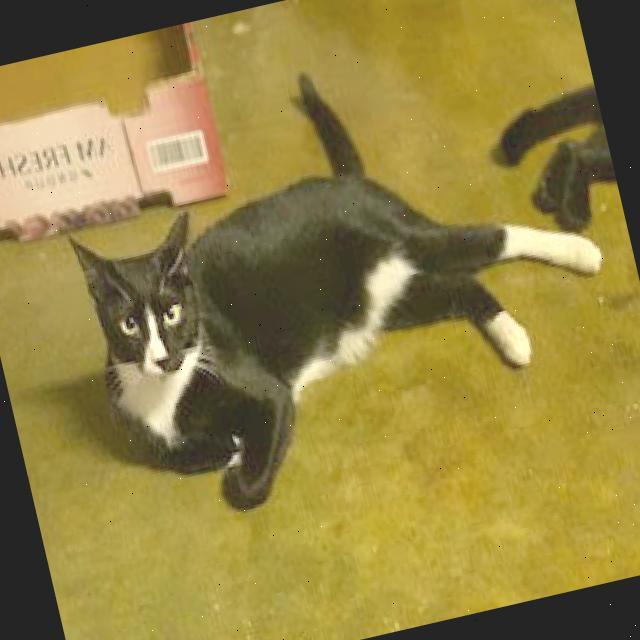domestic_short_hair_cat: (52, 202, 240, 423)
